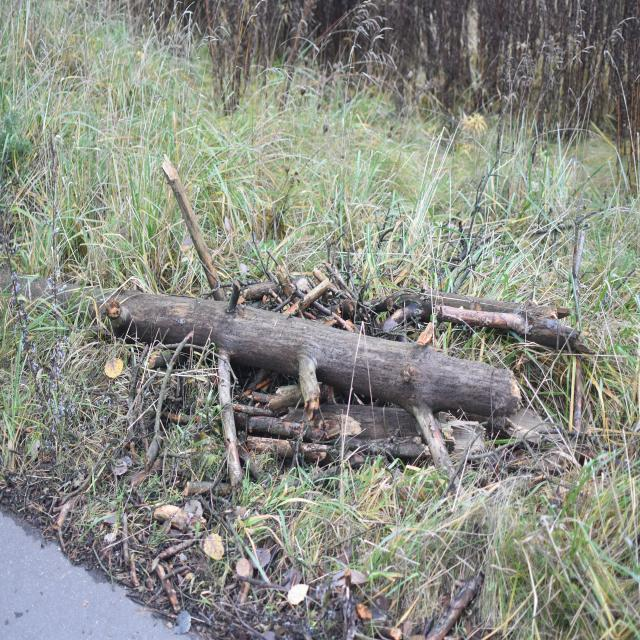restos de madeira: (112, 291, 528, 424), (161, 158, 228, 304), (247, 426, 438, 476), (89, 290, 218, 350), (144, 334, 194, 459), (57, 434, 125, 503), (213, 346, 246, 480), (441, 224, 498, 293), (510, 300, 590, 349), (208, 586, 282, 638), (428, 568, 479, 640), (371, 286, 429, 321), (568, 339, 587, 444), (286, 277, 331, 317), (125, 353, 145, 438), (322, 259, 359, 301), (151, 537, 196, 566), (231, 281, 283, 305), (233, 572, 291, 592), (144, 434, 162, 470), (122, 510, 132, 564), (56, 522, 68, 556)
